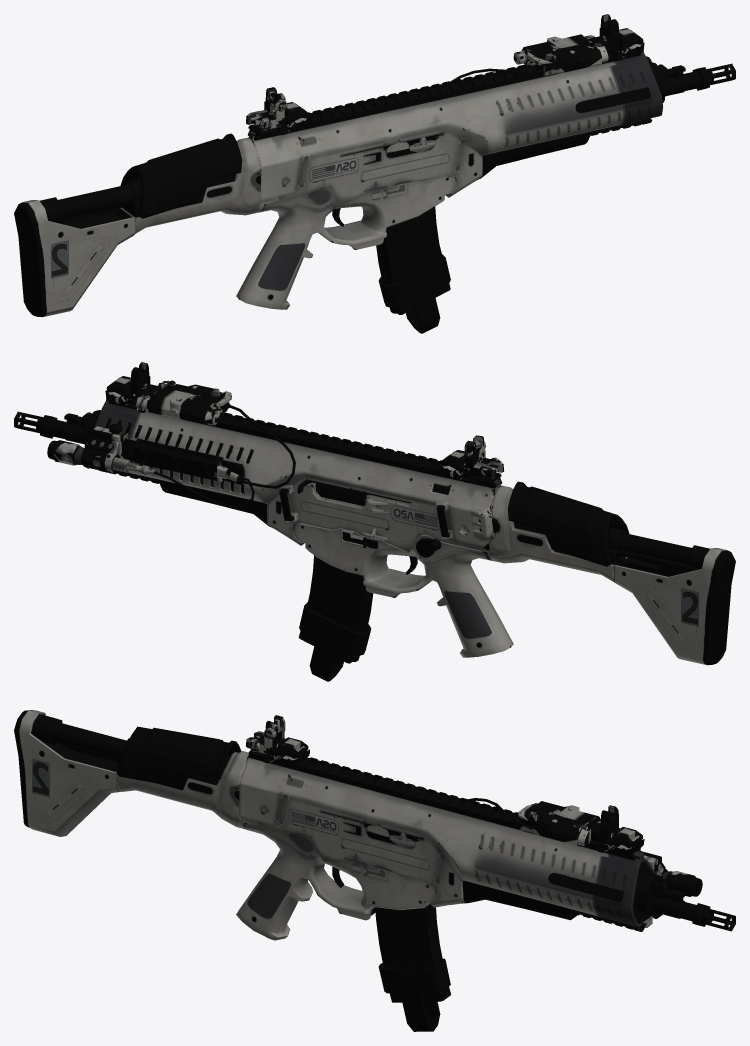
Rendered from arx160.glb.
3 views of the same model, one above another, from view 1: azimuth 30°, elevation 25°; view 2: azimuth 150°, elevation 25°; view 3: azimuth 330°, elevation 25° (orthographic).
Parts seen in each view (by area): view 1: Object_2, Object_4, Object_3; view 2: Object_2, Object_3, Object_4; view 3: Object_2, Object_3, Object_4.
Part boxes in pixels (box(x1,y1,x2,y2)): Object_2: box(14, 49, 735, 333); Object_4: box(246, 14, 644, 134); Object_3: box(450, 34, 651, 81); Object_2: box(14, 397, 735, 681); Object_3: box(47, 380, 295, 508); Object_4: box(105, 362, 503, 482); Object_2: box(14, 710, 735, 1031); Object_3: box(468, 798, 702, 896); Object_4: box(246, 715, 644, 856).
Size of the model in its own units: 80.31 by 29.99 by 8.94.
1 material, 1 textured.
